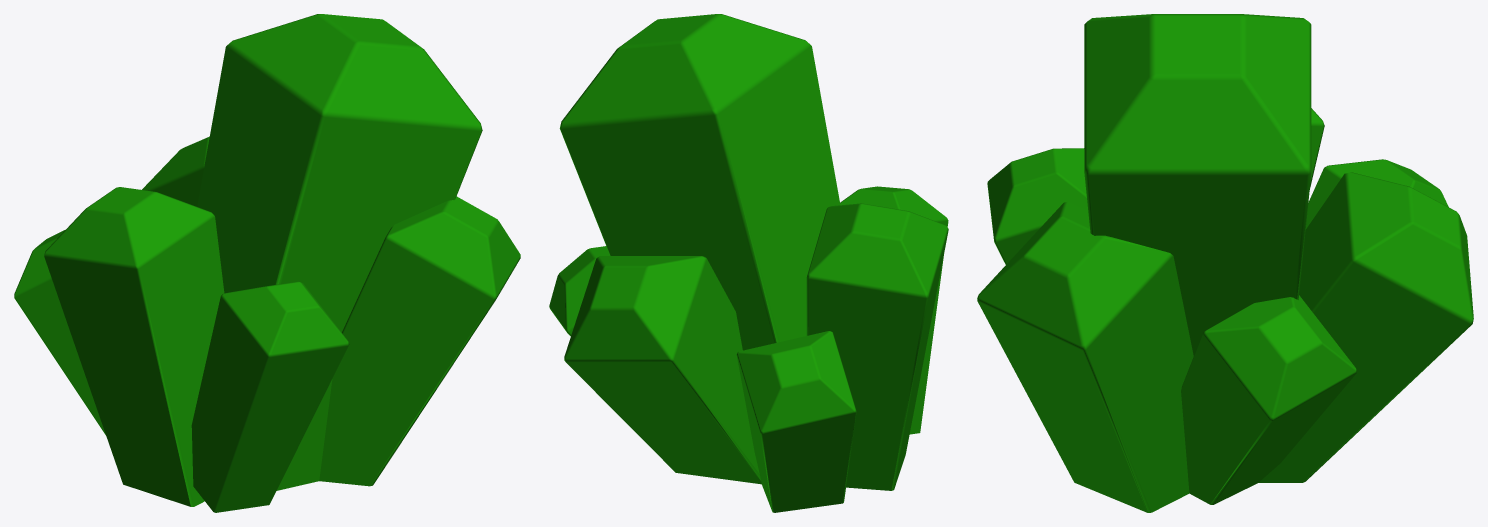
The model's file is gem.glb.
3 renders of one model, left to right at view 1: azimuth 30°, elevation 25°; view 2: azimuth 150°, elevation 25°; view 3: azimuth 270°, elevation 25°, orthographic. The views are drawn at different scales.
Visible parts, largest first — view 1: Object_2; view 2: Object_2; view 3: Object_2.
Part boxes in pixels (box(x1,y1,x2,y2)): Object_2: box(14, 14, 520, 512); Object_2: box(549, 14, 948, 512); Object_2: box(977, 14, 1473, 512).
Size of the model in its own units: 0.6028 by 0.6036 by 0.5682.
